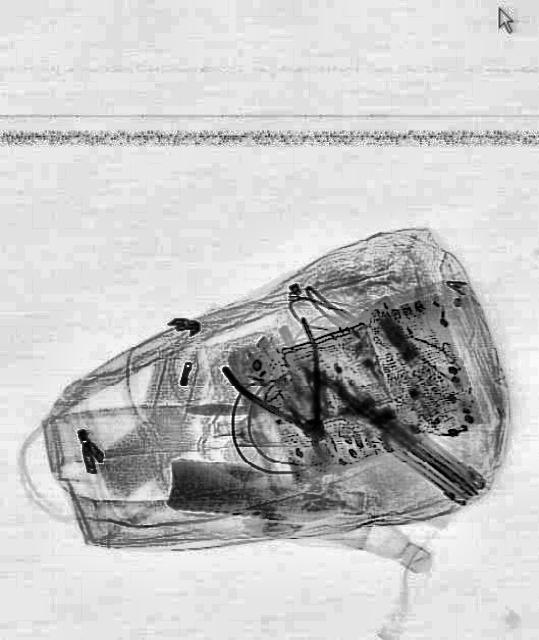Pliers: (219, 314, 365, 483)
